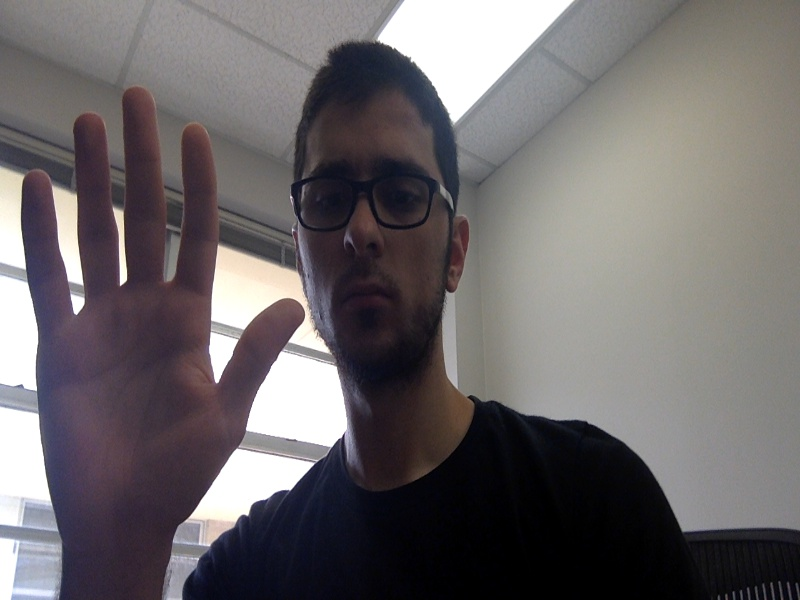5-hand: (20, 87, 313, 544)
